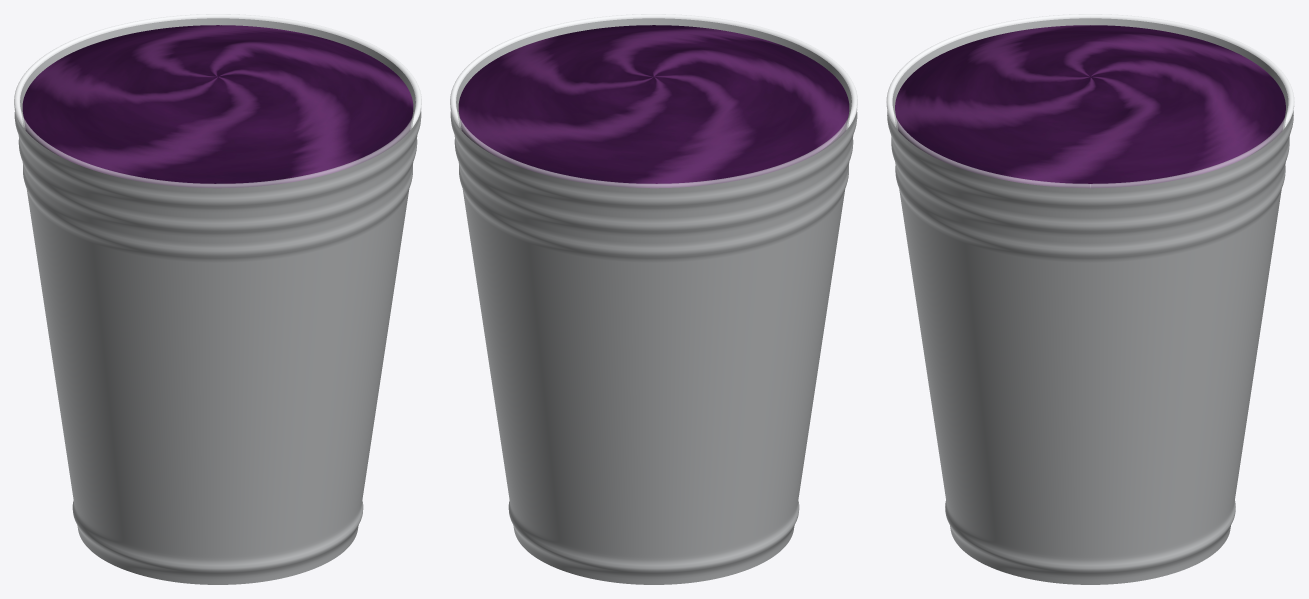
The model's file is acai-pet-500.glb.
3 views of the same model, side by side, from view 1: azimuth 30°, elevation 25°; view 2: azimuth 150°, elevation 25°; view 3: azimuth 270°, elevation 25° (orthographic).
Parts seen in each view (by area): view 1: acai-pet-500_1, acai-pet-500_0; view 2: acai-pet-500_1, acai-pet-500_0; view 3: acai-pet-500_1, acai-pet-500_0.
Part boxes in pixels (x1,y1,x2,y2): acai-pet-500_1: (14,14,421,584); acai-pet-500_0: (22,25,413,188); acai-pet-500_1: (450,14,857,584); acai-pet-500_0: (458,25,849,188); acai-pet-500_1: (886,14,1294,584); acai-pet-500_0: (895,25,1285,188).
Size of the model in its own units: 0.096 by 0.1165 by 0.096.
4 materials, 2 textured.
